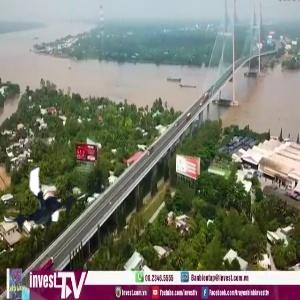drone: (3, 162, 88, 247)
